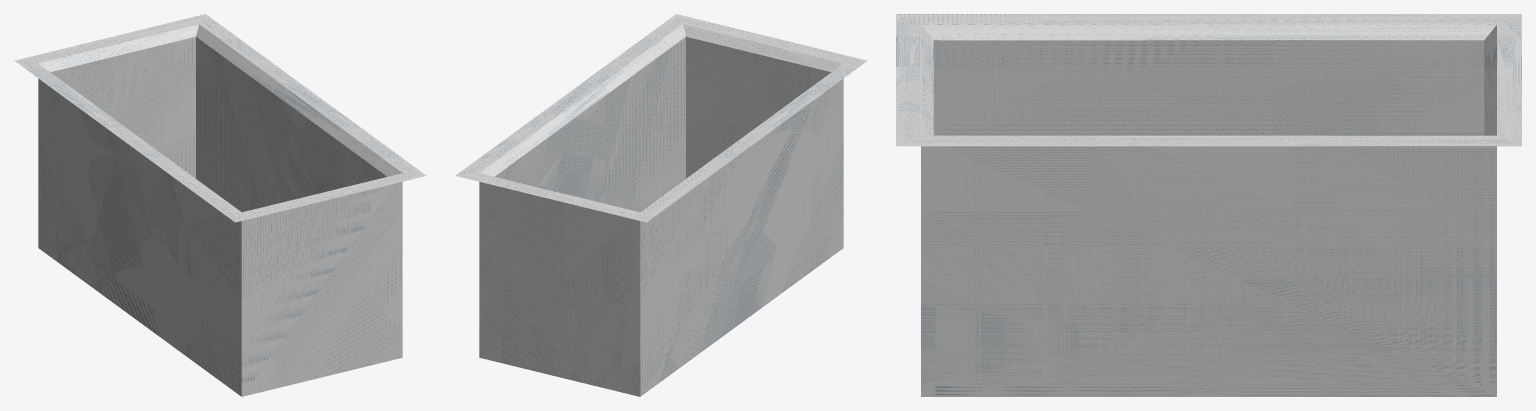
File: pot_v2.fbx
The picture shows the model from 3 angles, left to right: view 1: azimuth 30°, elevation 25°; view 2: azimuth 150°, elevation 25°; view 3: azimuth 270°, elevation 25°; orthographic projection. The views are drawn at different scales.
Visible parts, largest first — view 1: Komponente_5_1; view 2: Komponente_5_1; view 3: Komponente_5_1.
Part boxes in pixels (x1,y1,x2,y2): Komponente_5_1: (14, 14, 426, 396); Komponente_5_1: (455, 14, 867, 396); Komponente_5_1: (896, 14, 1521, 396).
Bounding box in the file's own units: 25 × 23.03 × 50.
